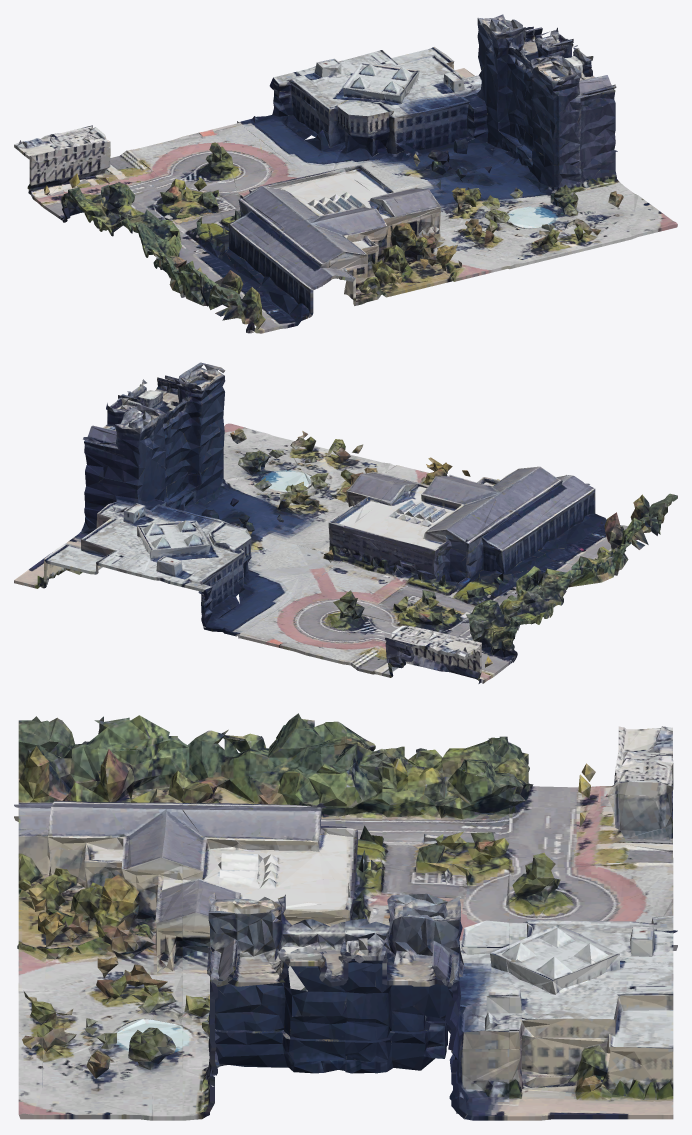
Rendered from Split15.fbx.
3 renders of one model, top to bottom at view 1: azimuth 30°, elevation 25°; view 2: azimuth 150°, elevation 25°; view 3: azimuth 270°, elevation 25°, orthographic. The views are drawn at different scales.
Parts seen in each view (by area): view 1: BuildingMesh-00015; view 2: BuildingMesh-00015; view 3: BuildingMesh-00015.
Part boxes in pixels (x1,y1,x2,y2): BuildingMesh-00015: (14, 14, 677, 333); BuildingMesh-00015: (14, 362, 677, 683); BuildingMesh-00015: (14, 713, 677, 1120).
Bounding box in the file's own units: 196 × 53.34 × 162.
7 materials, 7 textured.
